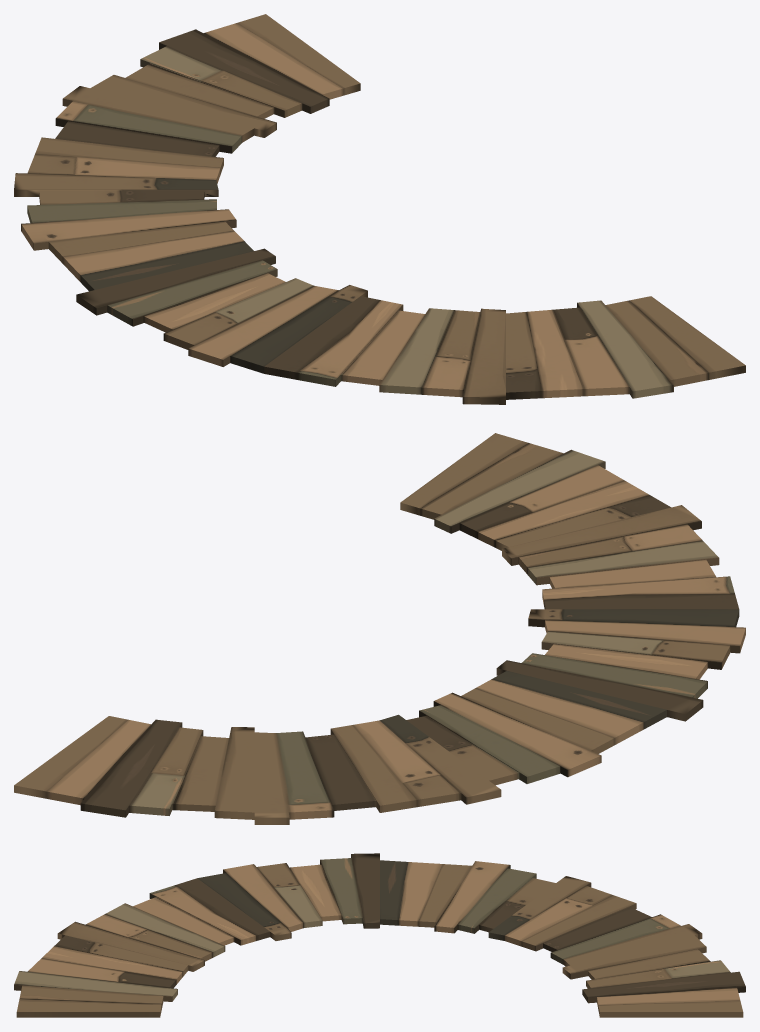
The model's file is SM_Bld_Dock_Round_05.fbx.
The picture shows the model from 3 angles, top to bottom: view 1: azimuth 30°, elevation 25°; view 2: azimuth 150°, elevation 25°; view 3: azimuth 270°, elevation 25°; orthographic projection. The views are drawn at different scales.
Visible parts, largest first — view 1: SM_Bld_Dock_Round_05; view 2: SM_Bld_Dock_Round_05; view 3: SM_Bld_Dock_Round_05.
Part boxes in pixels (<box>): SM_Bld_Dock_Round_05: <box>14,14,745,404</box>; SM_Bld_Dock_Round_05: <box>14,433,745,824</box>; SM_Bld_Dock_Round_05: <box>14,853,745,1017</box>.
Bounding box in the file's own units: 614 × 9.97 × 1196.
1 material, 1 textured.
